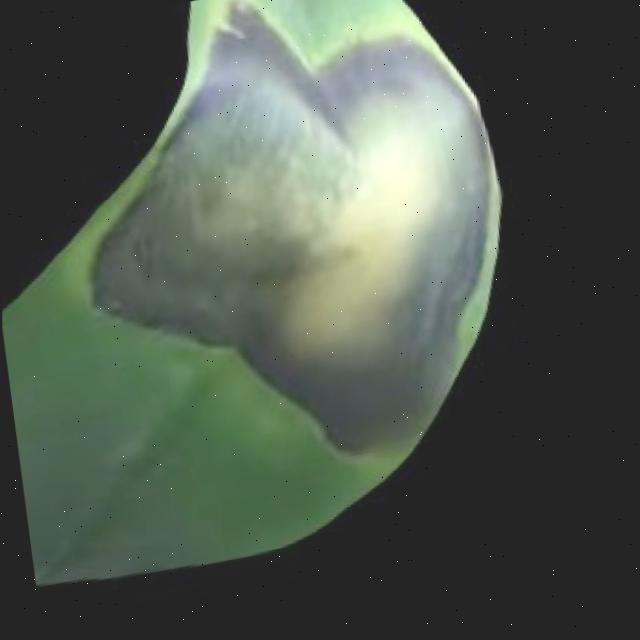mite: (0, 0, 250, 338), (428, 221, 497, 320), (119, 221, 174, 293), (215, 0, 264, 47), (127, 231, 166, 285)
sunburn: (53, 0, 534, 508)
